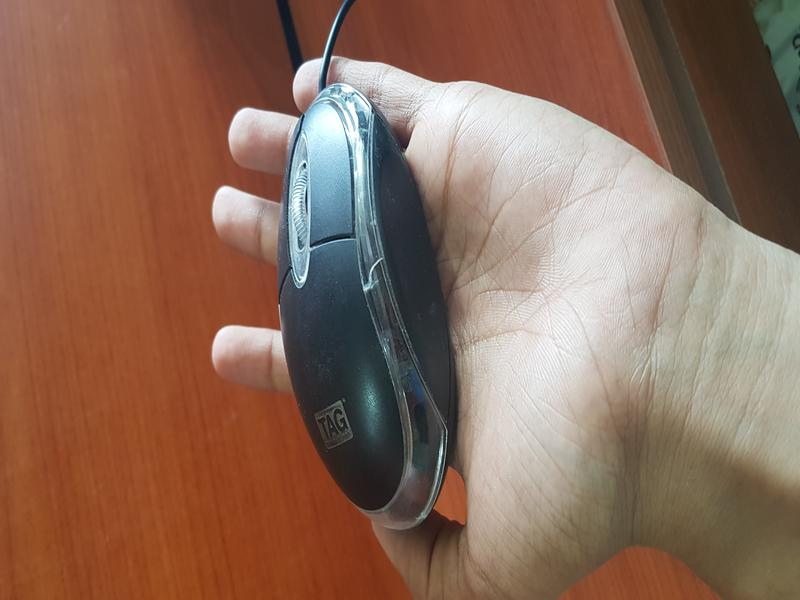mouse: (260, 67, 456, 547)
